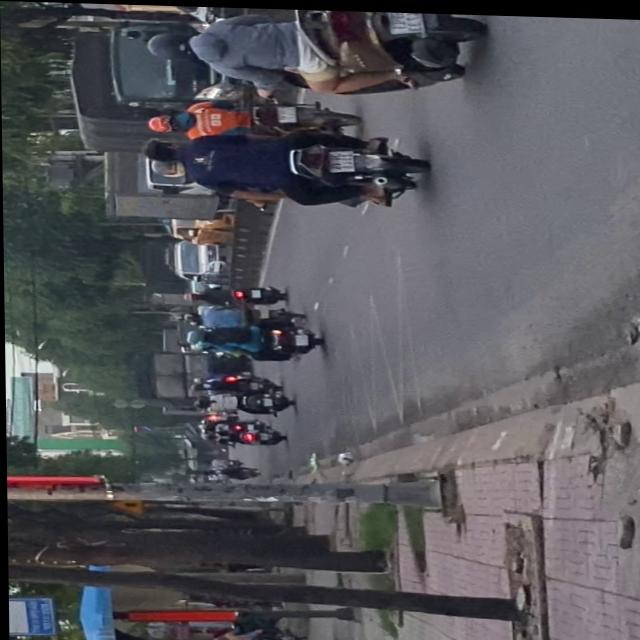helmet: (146, 26, 200, 59), (145, 111, 182, 132), (151, 156, 185, 175)
licenseplate: (142, 3, 487, 96), (141, 122, 429, 209), (146, 91, 359, 138)
motorcyclist: (141, 137, 180, 160)
nohelmet: (388, 9, 424, 30), (327, 148, 352, 168), (277, 103, 295, 119)
